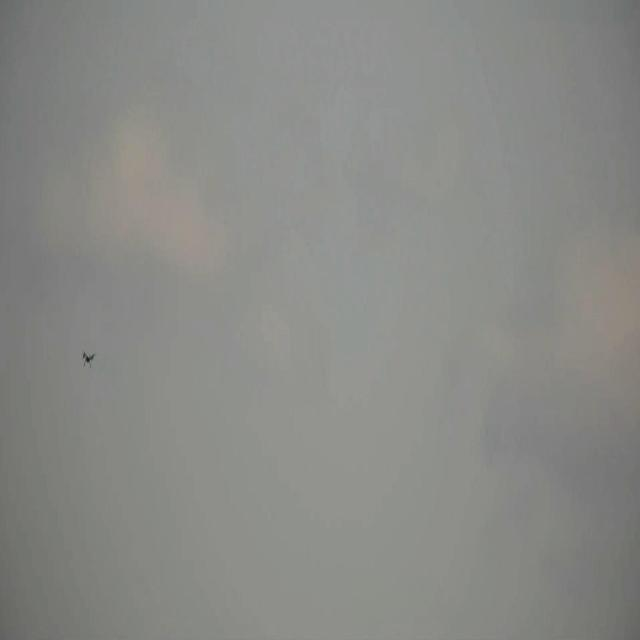drone: (78, 342, 99, 372)
